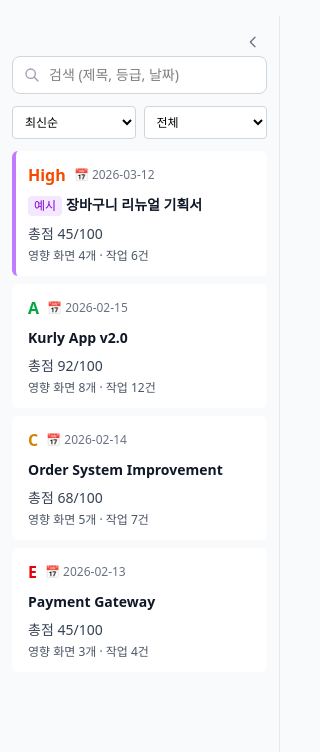
Test: LNB › clears search when X button is clicked
Expected: the heading "Kurly App v2.0" is shown, [28,328,128,347]
Step 1. Type "test" into the field with placeholder "검색 (제목, 등급, 날짜)" → (140, 75), box [12,56,267,94]
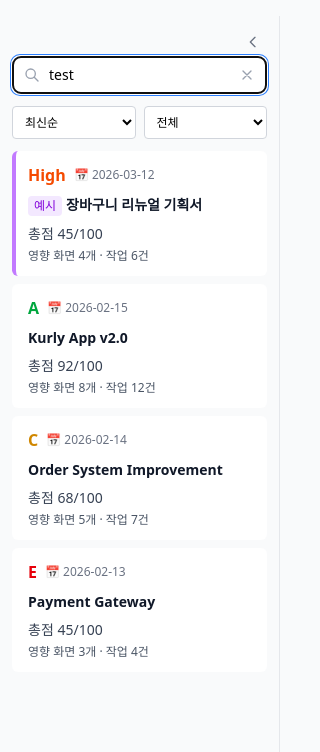
Step 2. Click the button named "검색 초기화" → (253, 75), box [239,56,267,94]
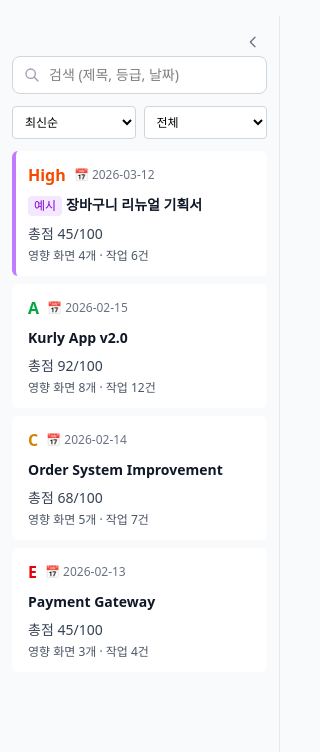
Now the field with placeholder "검색 (제목, 등급, 날짜)" is empty, box [12,56,267,94]
